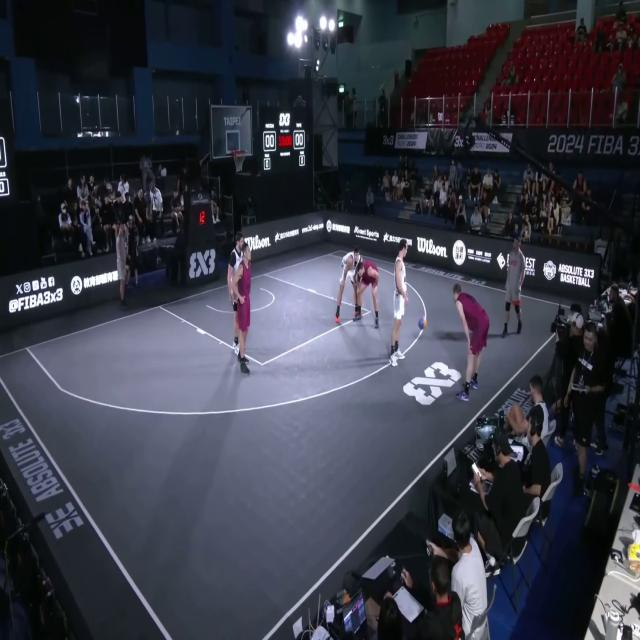ball: (416, 315, 427, 333)
hoop: (231, 146, 248, 175)
player: (451, 278, 490, 404), (233, 240, 254, 381), (227, 229, 245, 361), (391, 241, 408, 365), (336, 247, 362, 324), (352, 259, 378, 330)
